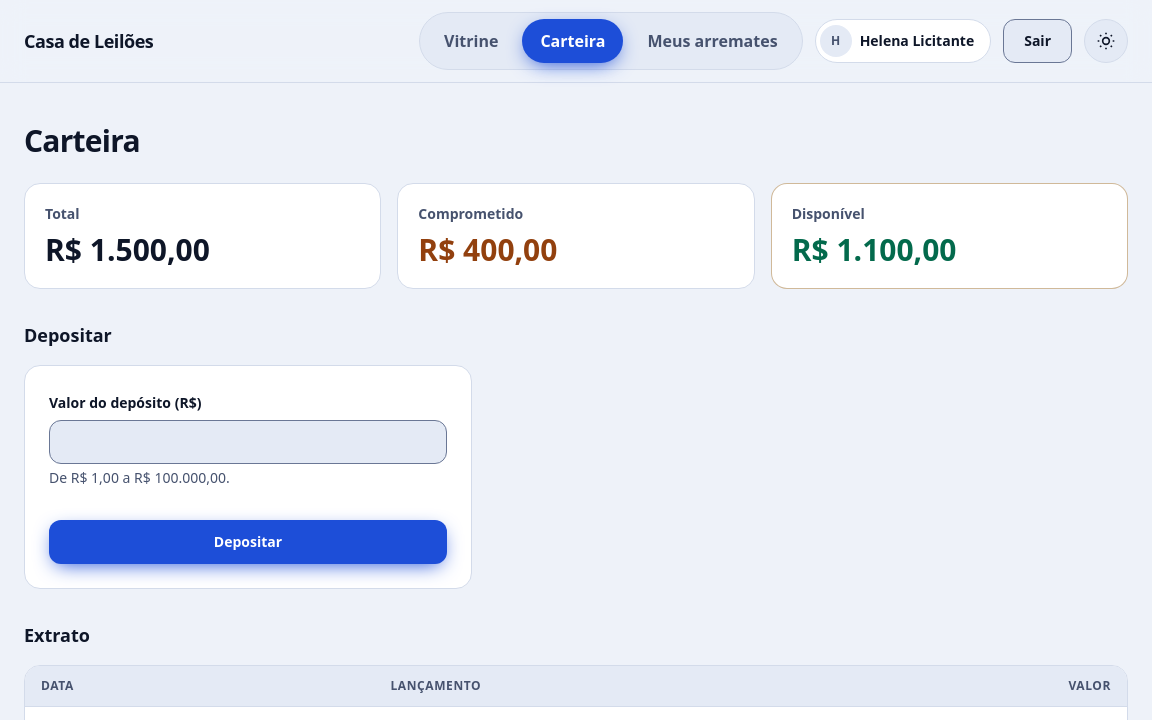
Scenario: /carteira › o role="status" do sucesso fica sempre montado; só o texto muda
This screenshot has width=1152, height=720.
Type "5" into the field labelled "Valor do depósito (R$)".
click(248, 442); type("5")  # box [49,420,447,464]
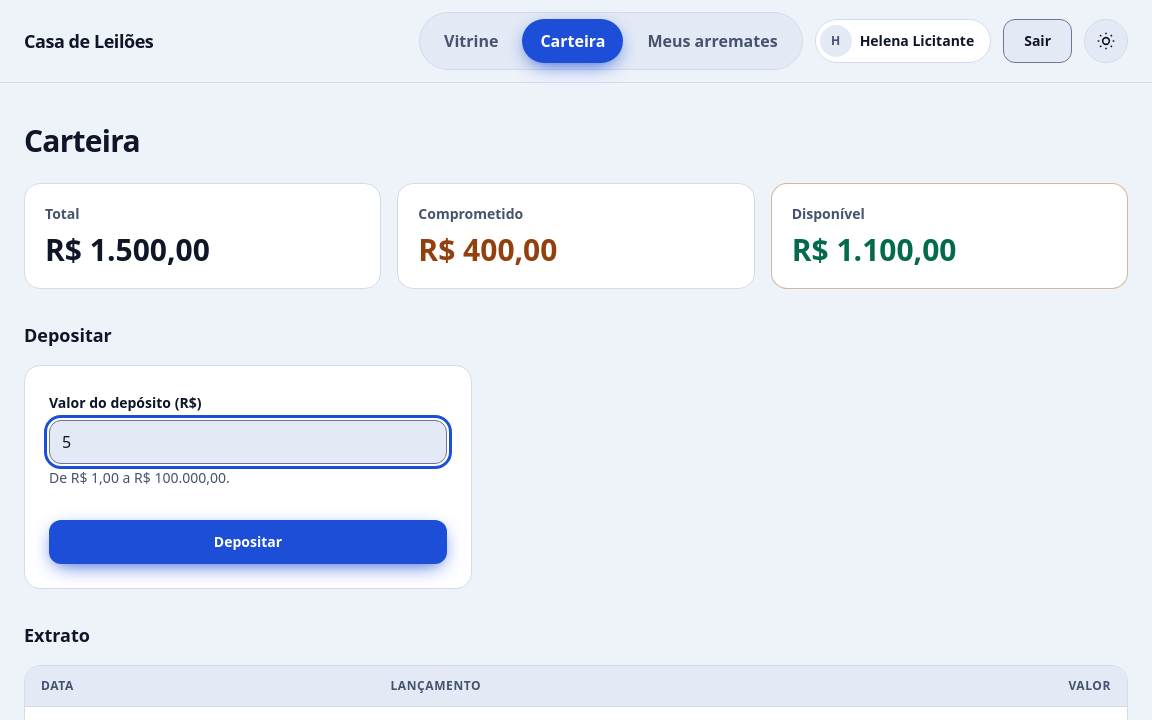
Click the button "Depositar".
click(248, 542)  # box [49,520,447,564]
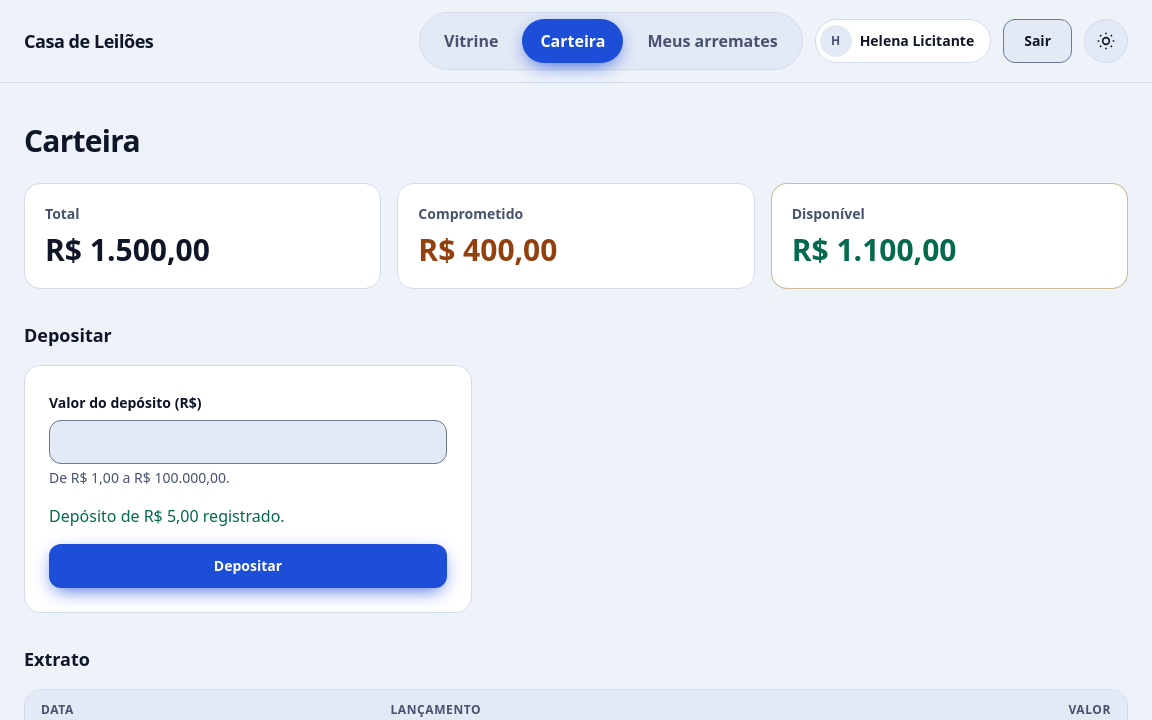
Now the message reads "Depósito de R$ 5,00 registrado.", box [49,505,285,527]
